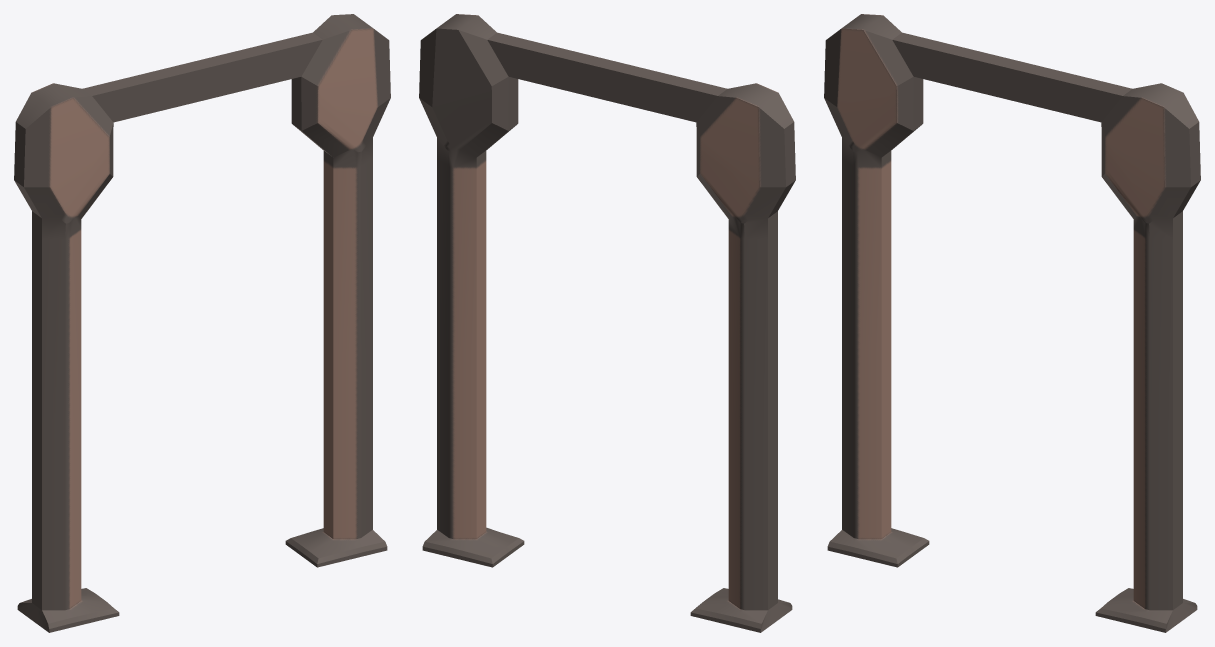
The model's file is GingerDoor.fbx.
3 views of the same model, side by side, from view 1: azimuth 30°, elevation 25°; view 2: azimuth 150°, elevation 25°; view 3: azimuth 330°, elevation 25° (orthographic).
Visible parts, largest first — view 1: Door; view 2: Door; view 3: Door.
Part boxes in pixels (box(x1,y1,x2,y2)): Door: box(14, 14, 390, 632); Door: box(419, 14, 795, 632); Door: box(824, 14, 1200, 632).
Size of the model in its own units: 84.61 by 115 by 12.65.
